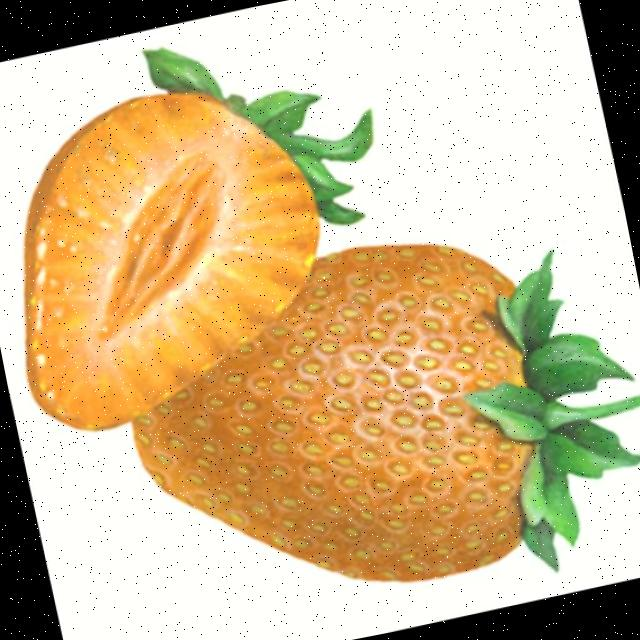strawberry: (133, 245, 640, 582), (25, 49, 372, 430)
